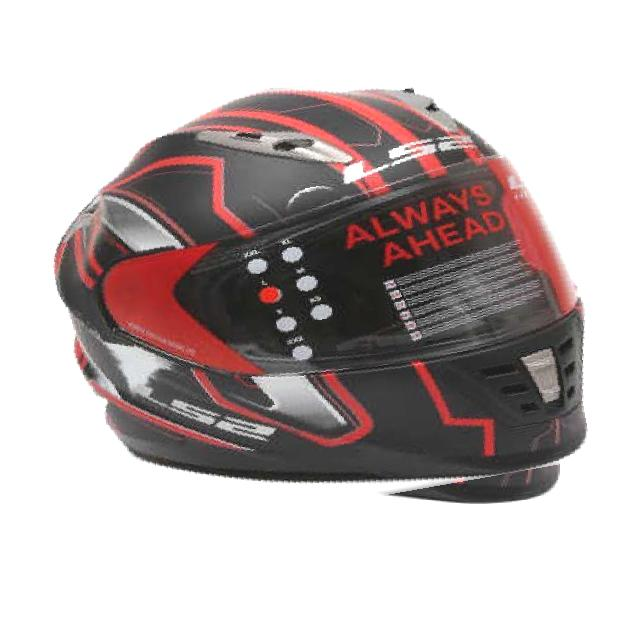helmet: (44, 63, 595, 525)
